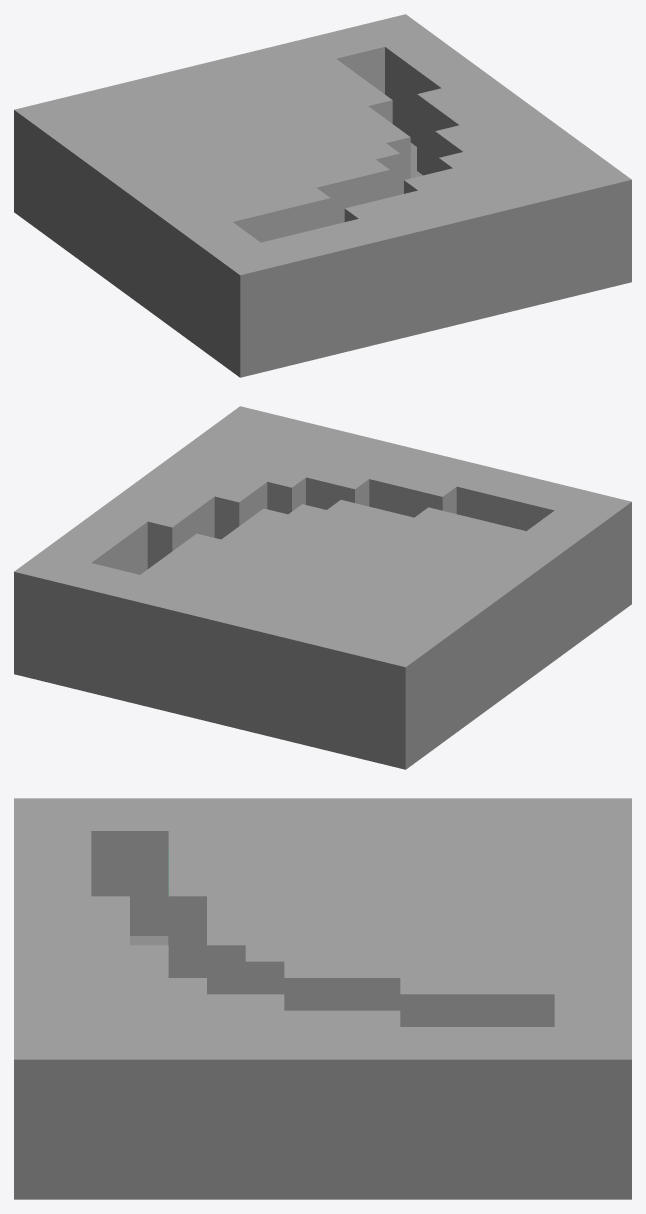
File: pickaxe_mold.gltf
The picture shows the model from 3 angles, top to bottom: view 1: azimuth 30°, elevation 25°; view 2: azimuth 150°, elevation 25°; view 3: azimuth 270°, elevation 25°; orthographic projection. The views are drawn at different scales.
Visible parts, largest first — view 1: mesh; view 2: mesh; view 3: mesh.
Boxes of the visible parts, bbox=[...] form: mesh: bbox=[14, 14, 631, 377]; mesh: bbox=[14, 406, 631, 769]; mesh: bbox=[14, 798, 631, 1199].
Size of the model in its own units: 1 by 0.25 by 1.
Materials: 2 (2 with a texture image).
